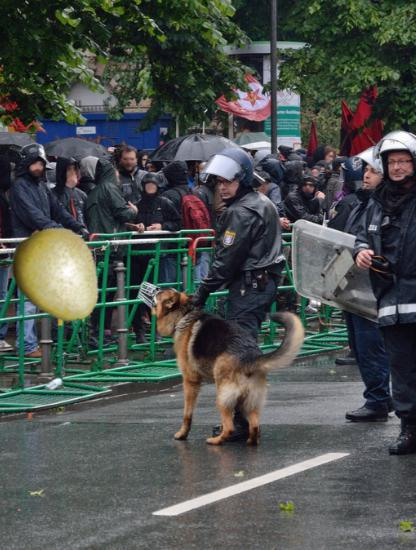Pear: (7, 225, 111, 329)
